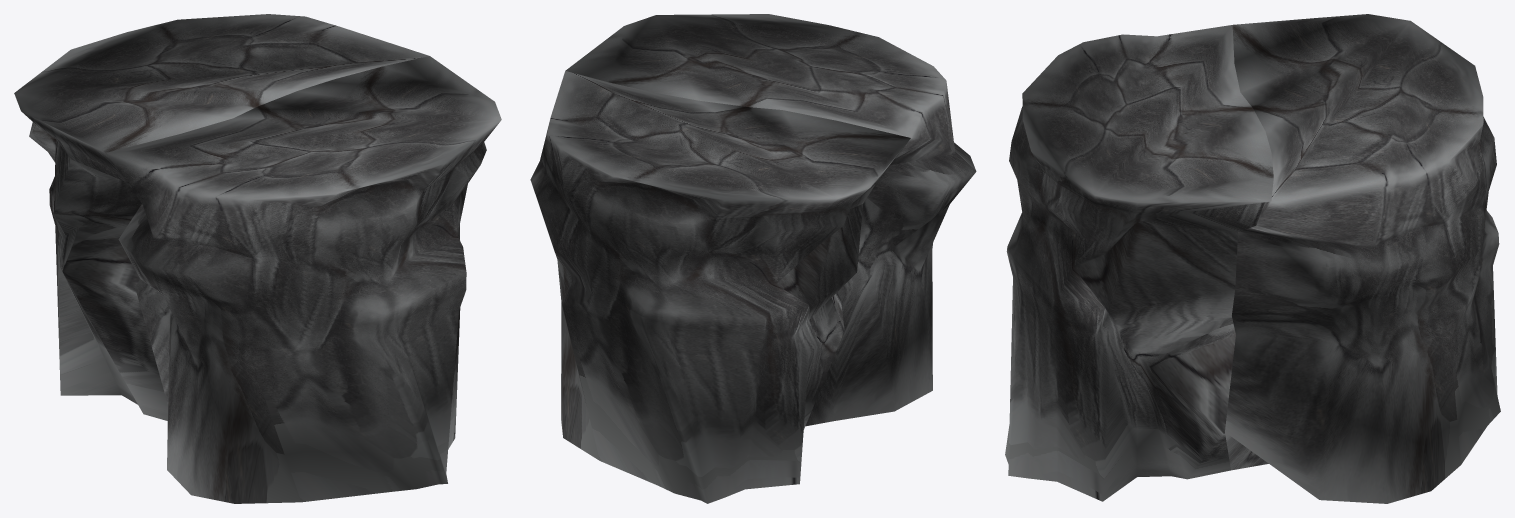
File: Rock_2_001.fbx
The picture shows the model from 3 angles, left to right: view 1: azimuth 30°, elevation 25°; view 2: azimuth 150°, elevation 25°; view 3: azimuth 270°, elevation 25°; orthographic projection. The views are drawn at different scales.
Parts seen in each view (by area): view 1: rock2; view 2: rock2; view 3: rock2.
Part boxes in pixels (box(x1,y1,x2,y2)): rock2: box(14, 14, 501, 503); rock2: box(530, 14, 976, 503); rock2: box(1005, 14, 1500, 503).
Bounding box in the file's own units: 2666 × 2170 × 2964.
